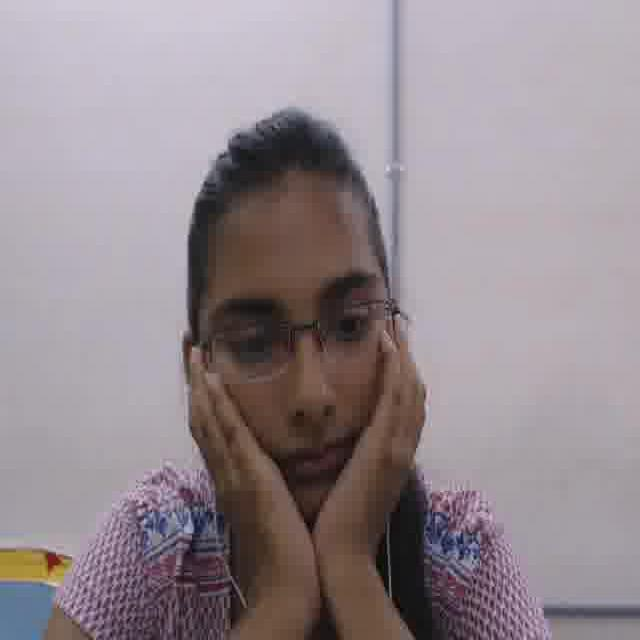Boredom: (201, 187, 387, 520)
